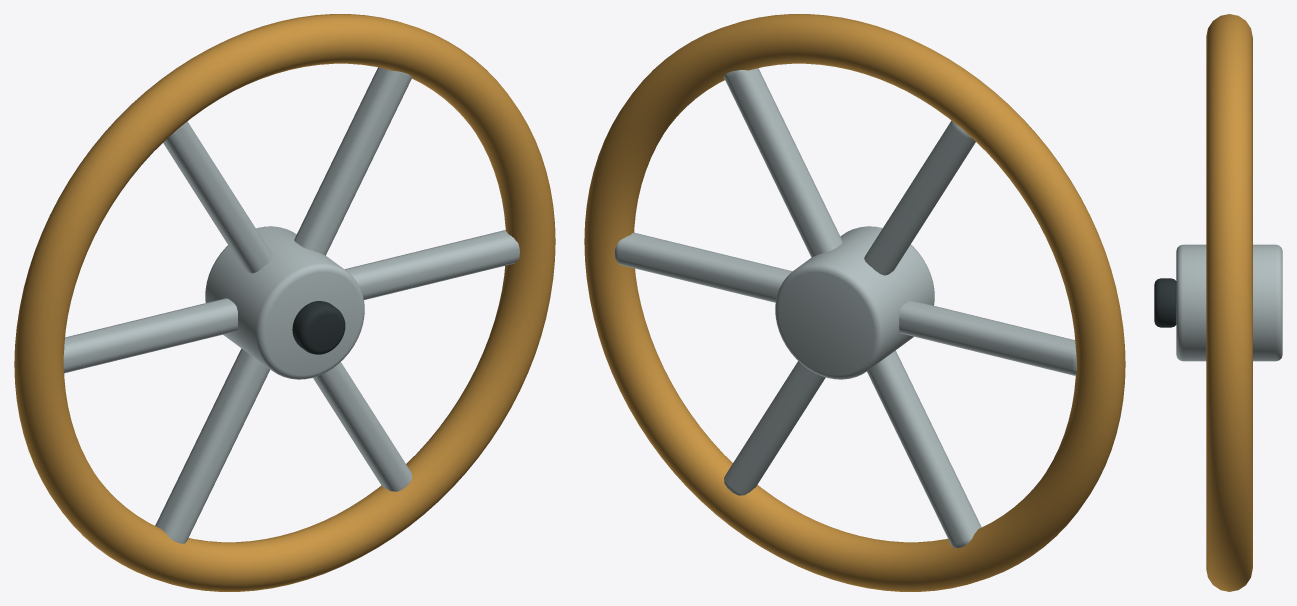
The model's file is stormworks_precision_wheel_v1.glb.
3 renders of one model, left to right at view 1: azimuth 30°, elevation 25°; view 2: azimuth 150°, elevation 25°; view 3: azimuth 270°, elevation 25°, orthographic. The views are drawn at different scales.
Visible parts, largest first — view 1: CastSixSpokeHandwheel, KeyedWheelHub, MachinedWheelSpoke.001, MachinedWheelSpoke.004, MachinedWheelSpoke.003, MachinedWheelSpoke, MachinedWheelSpoke.002, MachinedWheelSpoke.005, HubFastener; view 2: CastSixSpokeHandwheel, KeyedWheelHub, MachinedWheelSpoke.001, MachinedWheelSpoke.004, MachinedWheelSpoke.003, MachinedWheelSpoke, MachinedWheelSpoke.002, MachinedWheelSpoke.005; view 3: CastSixSpokeHandwheel, KeyedWheelHub, HubFastener.
Part boxes in pixels (x1=…): CastSixSpokeHandwheel: x1=14, y1=14, x2=555, y2=591; KeyedWheelHub: x1=205, y1=226, x2=364, y2=379; MachinedWheelSpoke.001: x1=294, y1=67, x2=411, y2=255; MachinedWheelSpoke.004: x1=155, y1=348, x2=270, y2=543; MachinedWheelSpoke.003: x1=63, y1=298, x2=238, y2=373; MachinedWheelSpoke: x1=345, y1=230, x2=519, y2=299; MachinedWheelSpoke.002: x1=163, y1=121, x2=272, y2=273; MachinedWheelSpoke.005: x1=313, y1=362, x2=411, y2=491; HubFastener: x1=292, y1=301, x2=345, y2=354; CastSixSpokeHandwheel: x1=584, y1=14, x2=1125, y2=591; KeyedWheelHub: x1=775, y1=226, x2=934, y2=379; MachinedWheelSpoke.001: x1=724, y1=68, x2=842, y2=257; MachinedWheelSpoke.004: x1=867, y1=350, x2=981, y2=548; MachinedWheelSpoke.003: x1=899, y1=300, x2=1076, y2=375; MachinedWheelSpoke: x1=615, y1=232, x2=792, y2=302; MachinedWheelSpoke.002: x1=864, y1=120, x2=975, y2=275; MachinedWheelSpoke.005: x1=724, y1=361, x2=825, y2=495; CastSixSpokeHandwheel: x1=1206, y1=14, x2=1252, y2=591; KeyedWheelHub: x1=1176, y1=244, x2=1282, y2=361; HubFastener: x1=1154, y1=278, x2=1176, y2=327.
Size of the model in its own units: 0.446 by 0.446 by 0.099.
